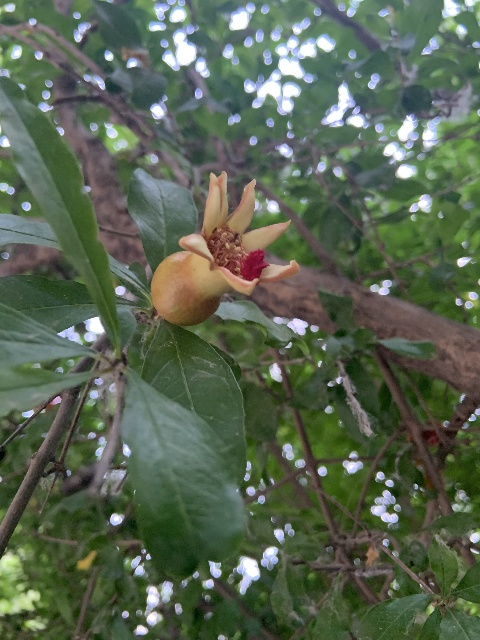early-fruit: (152, 169, 300, 326)
